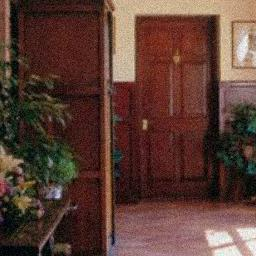Armario: (34, 0, 112, 256)
Matera: (217, 105, 256, 216)
Puerta: (136, 15, 222, 197)
